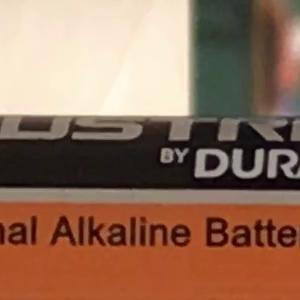keyword: (40, 206, 95, 256)
